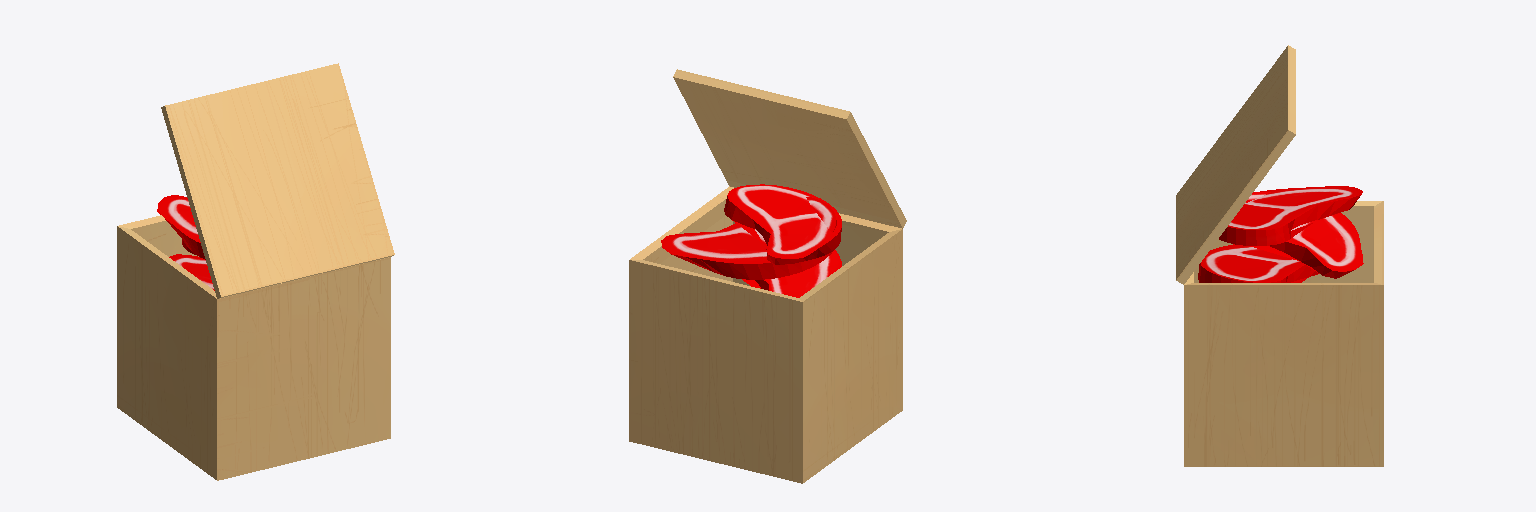
The picture shows the model from 3 angles: view 1: azimuth 30°, elevation 25°; view 2: azimuth 150°, elevation 25°; view 3: azimuth 270°, elevation 25°; orthographic projection.
Parts seen in each view (by area): view 1: Cube, Cylinder.001; view 2: Cube, Cylinder.001; view 3: Cube, Cylinder.001.
Part boxes in pixels (left/top/right/bottom): Cube: left=117, top=63, right=394, bottom=480; Cylinder.001: left=157, top=195, right=214, bottom=290; Cube: left=629, top=69, right=906, bottom=483; Cylinder.001: left=661, top=184, right=841, bottom=297; Cube: left=1176, top=45, right=1383, bottom=466; Cylinder.001: left=1198, top=186, right=1363, bottom=282.
Bounding box in the file's own units: 2.22 × 4.12 × 2.3.
2 materials, 2 textured.